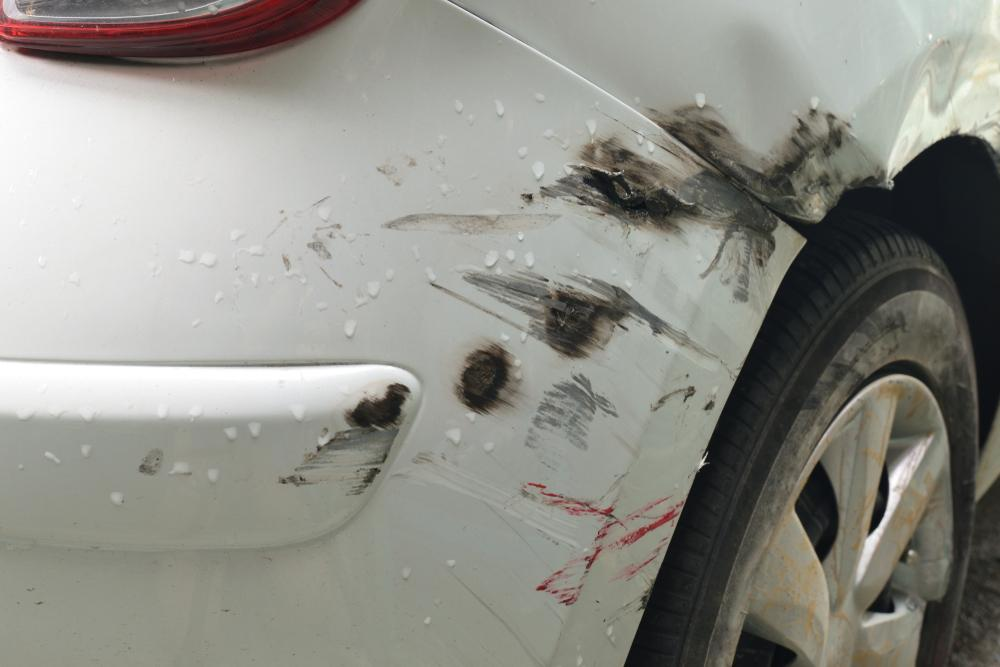dent: (888, 32, 1000, 182), (718, 28, 815, 155)
scratch: (379, 121, 806, 624), (641, 100, 871, 244), (274, 377, 412, 502)
